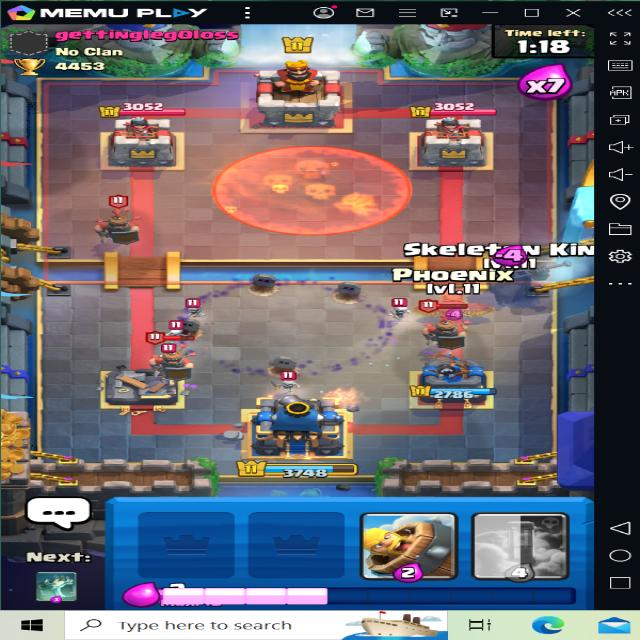poison: (218, 140, 411, 236)
royal-recruits: (412, 304, 480, 360), (91, 195, 156, 250), (138, 336, 191, 386)
skeleton: (380, 298, 422, 326), (266, 372, 302, 397), (182, 296, 207, 320), (160, 320, 188, 340)
